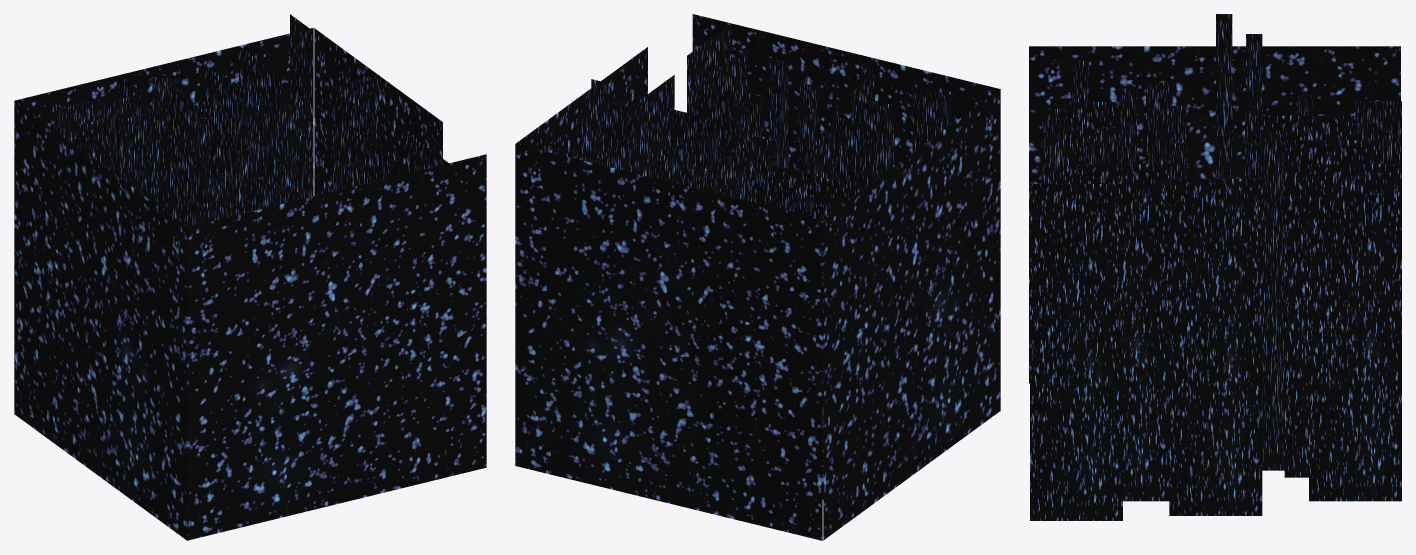
The model's file is Labyrinthe.glb.
The picture shows the model from 3 angles, left to right: view 1: azimuth 30°, elevation 25°; view 2: azimuth 150°, elevation 25°; view 3: azimuth 270°, elevation 25°; orthographic projection. The views are drawn at different scales.
Visible parts, largest first — view 1: Plane, Plane.002, Plane.026, Plane.007, Plane.036, Plane.028, Plane.016, Plane.003, Plane.019, Plane.015, Plane.020, Plane.038 (+13 smaller); view 2: Plane.007, Plane.002, Plane, Plane.026, Plane.032, Plane.019, Plane.038, Plane.036, Plane.040, Plane.037, Plane.023, Plane.004 (+13 smaller); view 3: Plane.019, Plane.020, Plane.040, Plane.002, Plane.021, Plane.016, Plane.018, Plane.036, Plane.035, Plane.023, Plane.045, Plane.028 (+10 smaller).
Part boxes in pixels (<box>): Plane: <box>187,154,486,540</box>; Plane.002: <box>14,101,187,540</box>; Plane.026: <box>314,28,442,195</box>; Plane.007: <box>14,27,313,413</box>; Plane.036: <box>111,111,156,204</box>; Plane.028: <box>160,128,203,227</box>; Plane.016: <box>204,65,247,198</box>; Plane.003: <box>272,99,311,197</box>; Plane.019: <box>331,87,374,191</box>; Plane.015: <box>290,14,312,196</box>; Plane.020: <box>239,46,281,108</box>; Plane.038: <box>98,95,142,171</box>; Plane.007: <box>515,144,822,540</box>; Plane.002: <box>823,89,1000,540</box>; Plane: <box>692,14,999,171</box>; Plane.026: <box>516,47,647,159</box>; Plane.032: <box>769,164,845,499</box>; Plane.019: <box>630,75,674,176</box>; Plane.038: <box>831,110,870,201</box>; Plane.036: <box>854,100,892,183</box>; Plane.040: <box>687,23,731,114</box>; Plane.037: <box>912,87,951,152</box>; Plane.023: <box>709,137,754,201</box>; Plane.004: <box>695,87,735,161</box>; Plane.019: <box>1169,178,1262,515</box>; Plane.020: <box>1309,164,1401,501</box>; Plane.040: <box>1030,184,1122,520</box>; Plane.002: <box>1029,46,1400,383</box>; Plane.021: <box>1076,164,1169,501</box>; Plane.016: <box>1284,140,1377,477</box>; Plane.018: <box>1261,133,1284,470</box>; Plane.036: <box>1216,14,1232,178</box>; Plane.035: <box>1064,102,1114,183</box>; Plane.023: <box>1261,115,1354,140</box>; Plane.045: <box>1355,101,1401,164</box>; Plane.028: <box>1146,82,1169,164</box>.
Size of the model in its own units: 8.02 by 9 by 8.02.
Materials: 1 (1 with a texture image).
